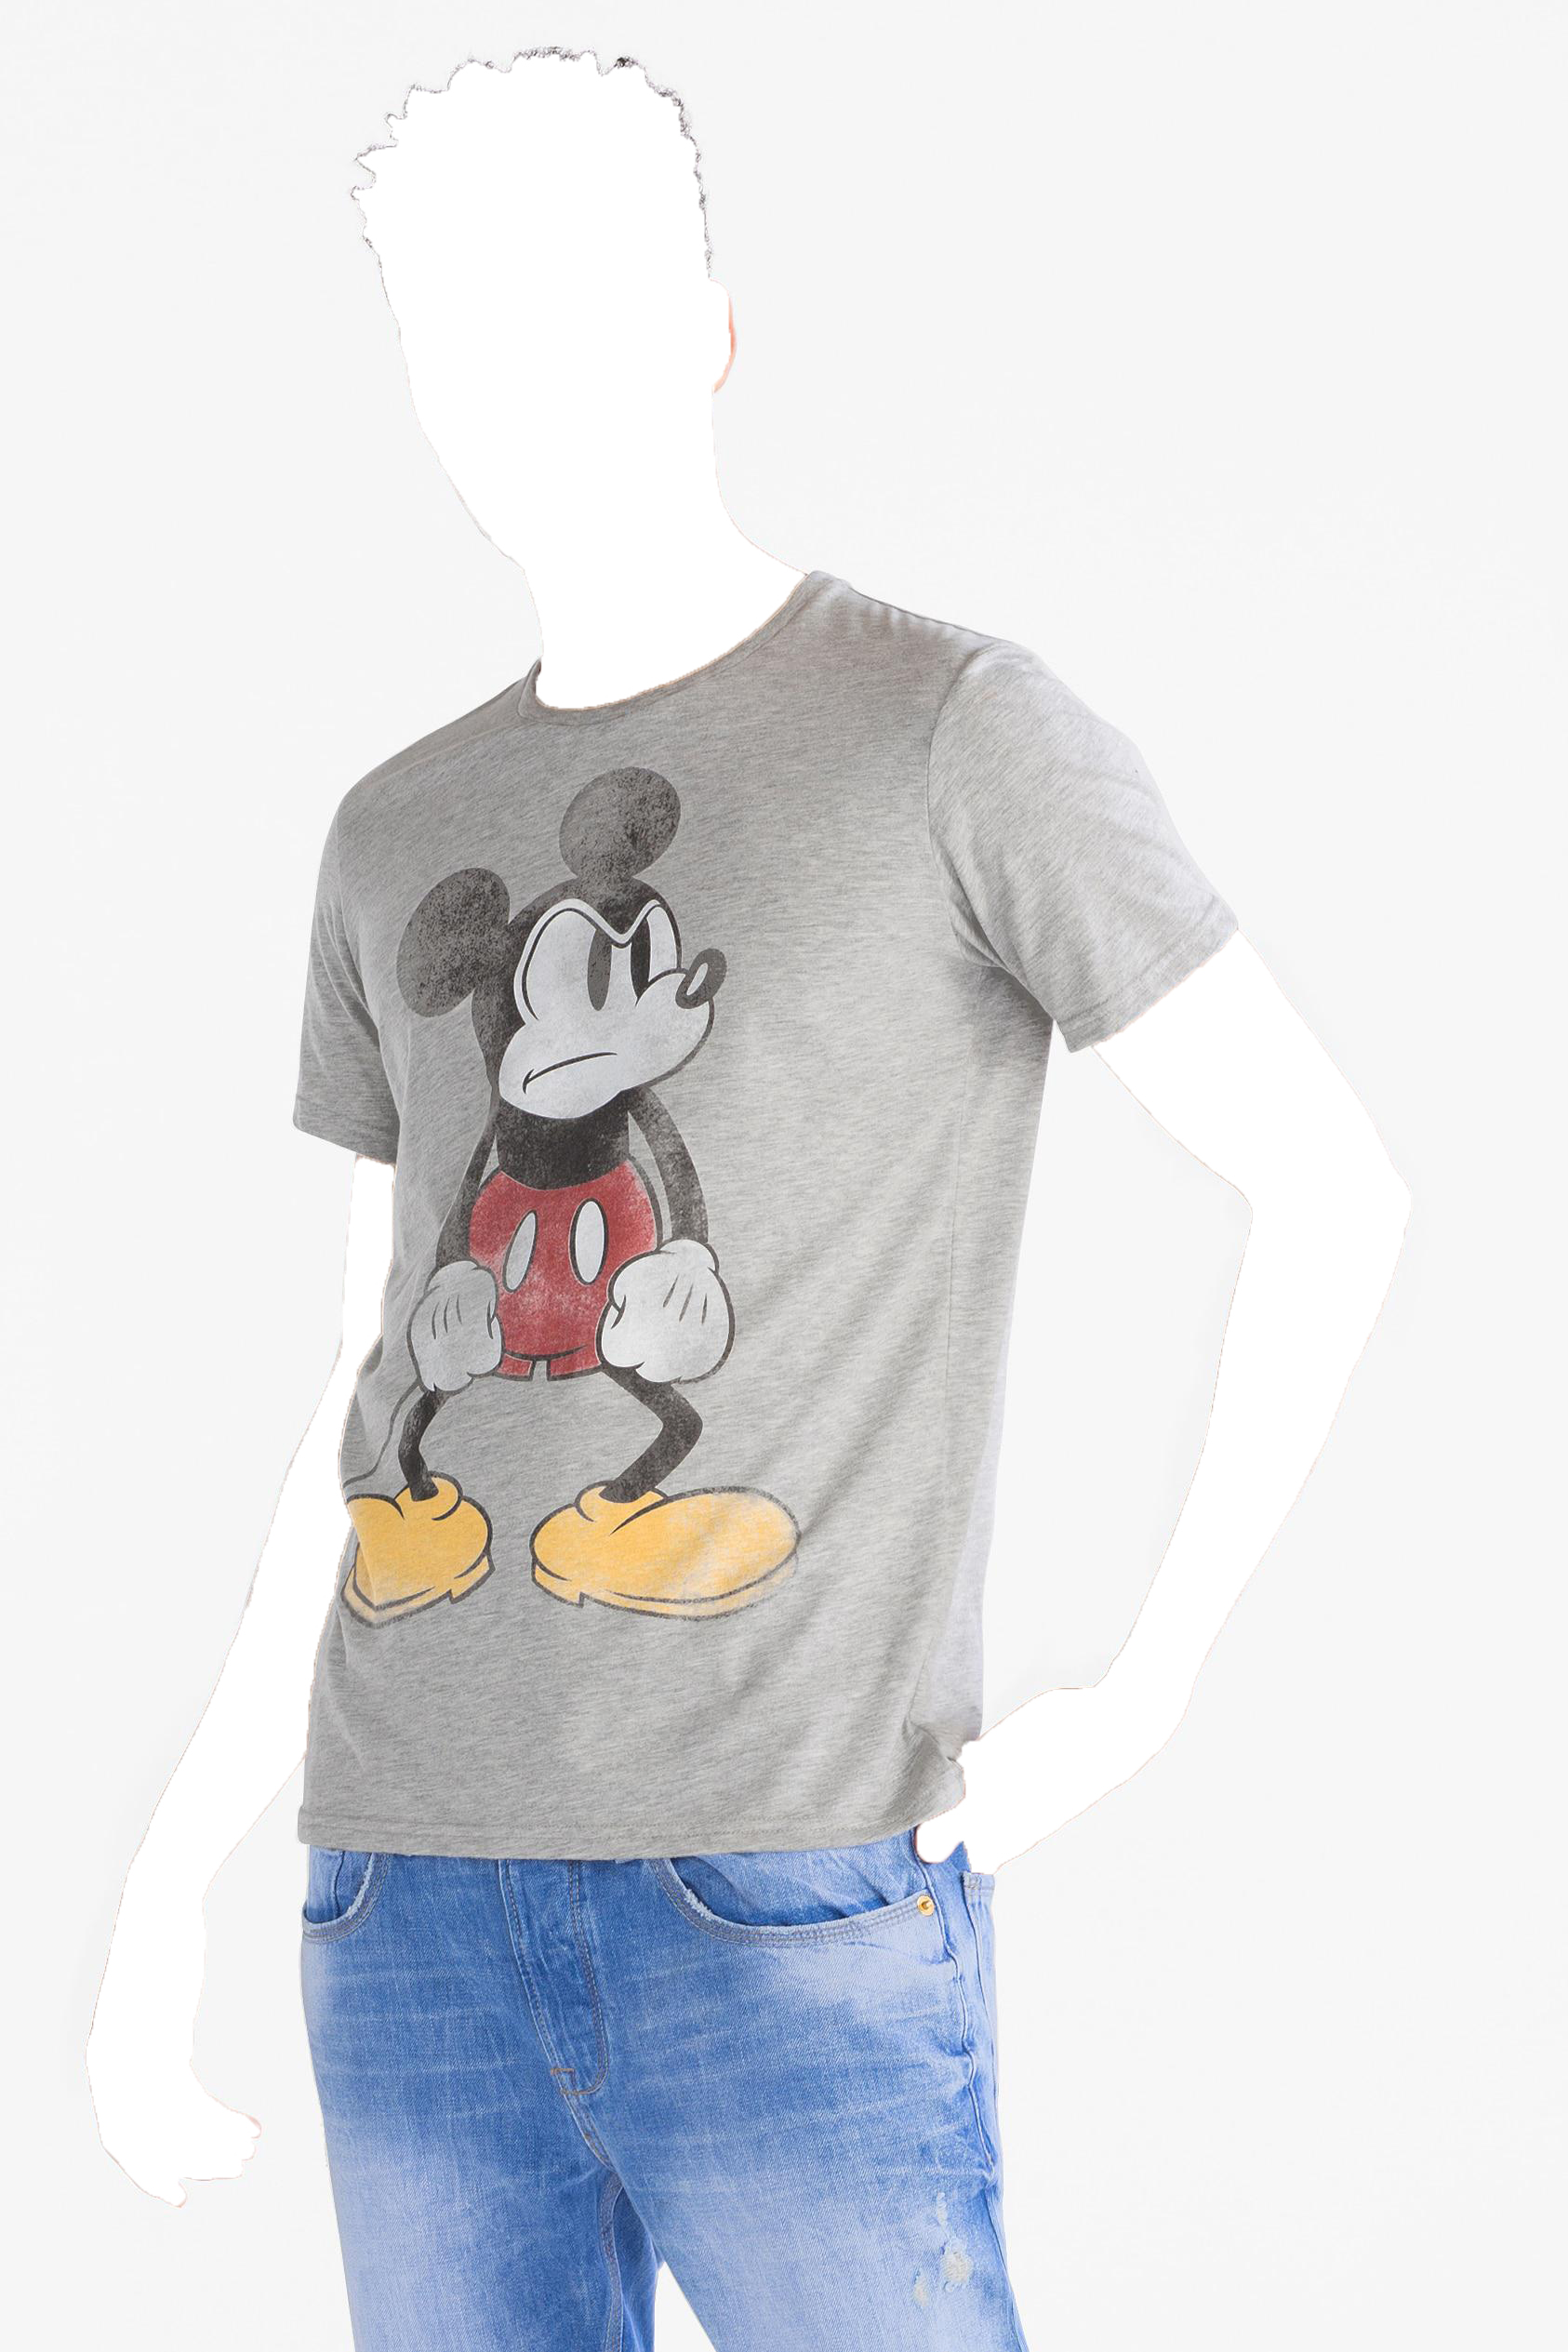teeshirt: (205, 563, 1251, 1899)
